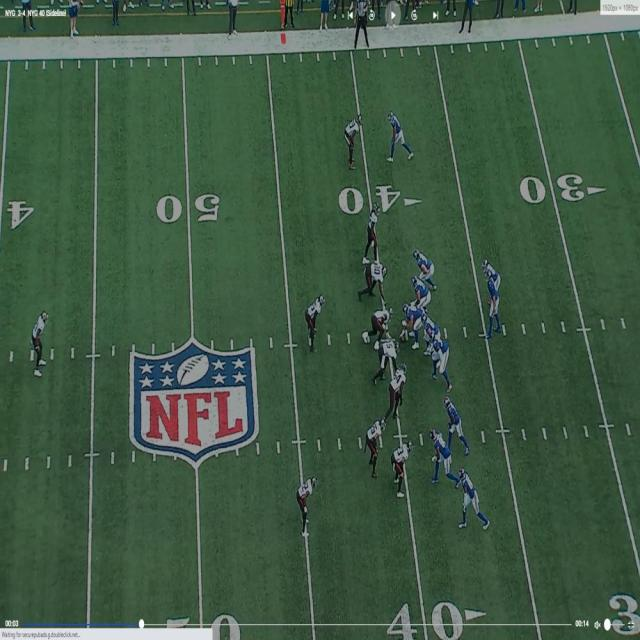center: (400, 302, 419, 338)
db: (32, 308, 49, 376), (394, 437, 410, 497), (298, 477, 315, 532), (346, 115, 361, 167)
lb: (305, 292, 323, 346), (368, 416, 383, 469), (367, 209, 382, 254)
qb: (489, 275, 504, 332)
skill: (459, 466, 488, 528), (429, 430, 453, 479), (389, 112, 408, 162), (448, 395, 466, 438), (481, 257, 496, 304)
